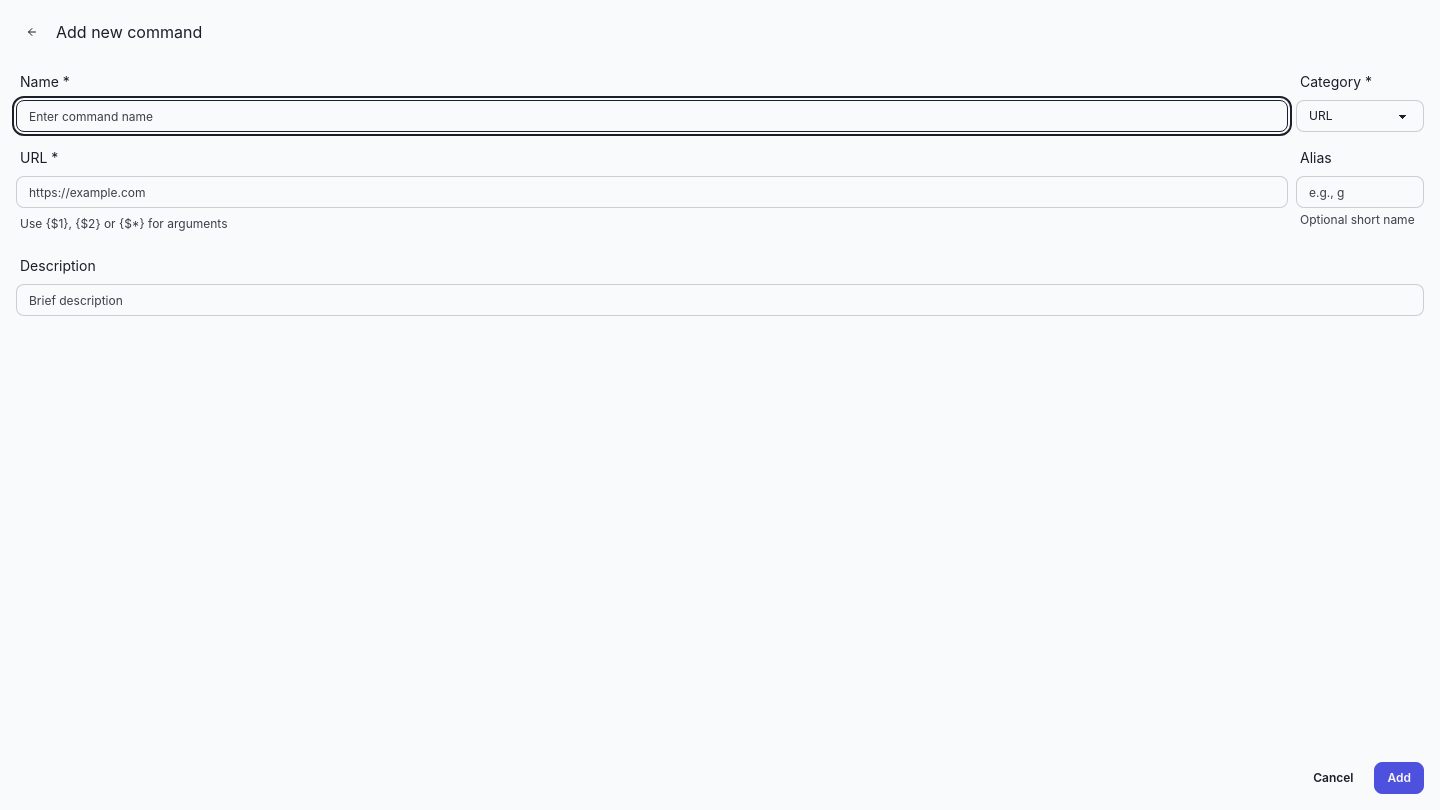
Test: CommandForm validation copy › keeps the alias optional unless the command takes arguments
The image size is (1440, 810).
Expected: the field labelled "Alias" is enabled, left=1296, top=176, right=1424, bottom=208
Expected: the text "Optional short name" is shown, left=1296, top=208, right=1424, bottom=232
Click the field labelled "URL *" at coordinates (652, 192), box left=16, top=176, right=1288, bottom=208
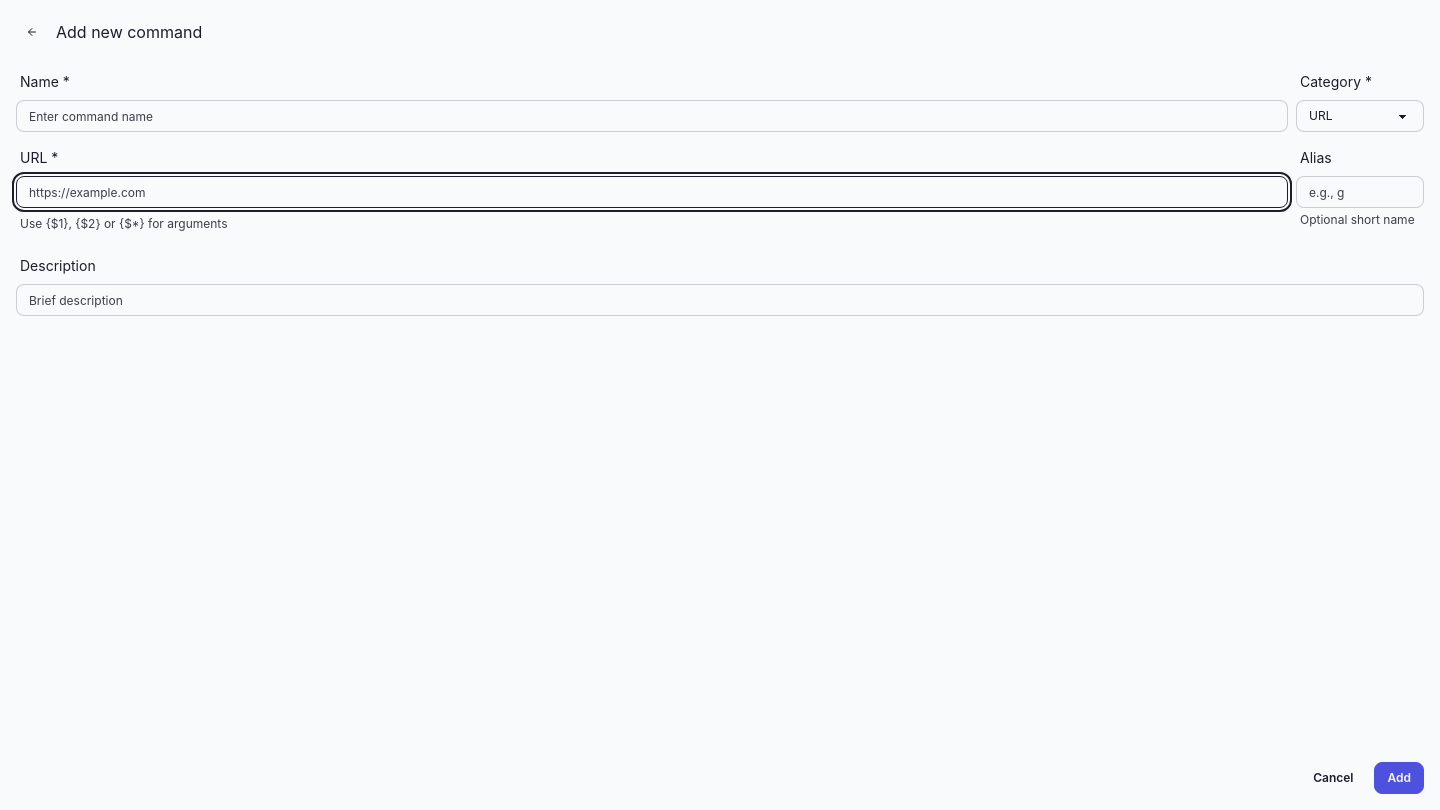
Type keys "https://a.dev/?q={$1}"
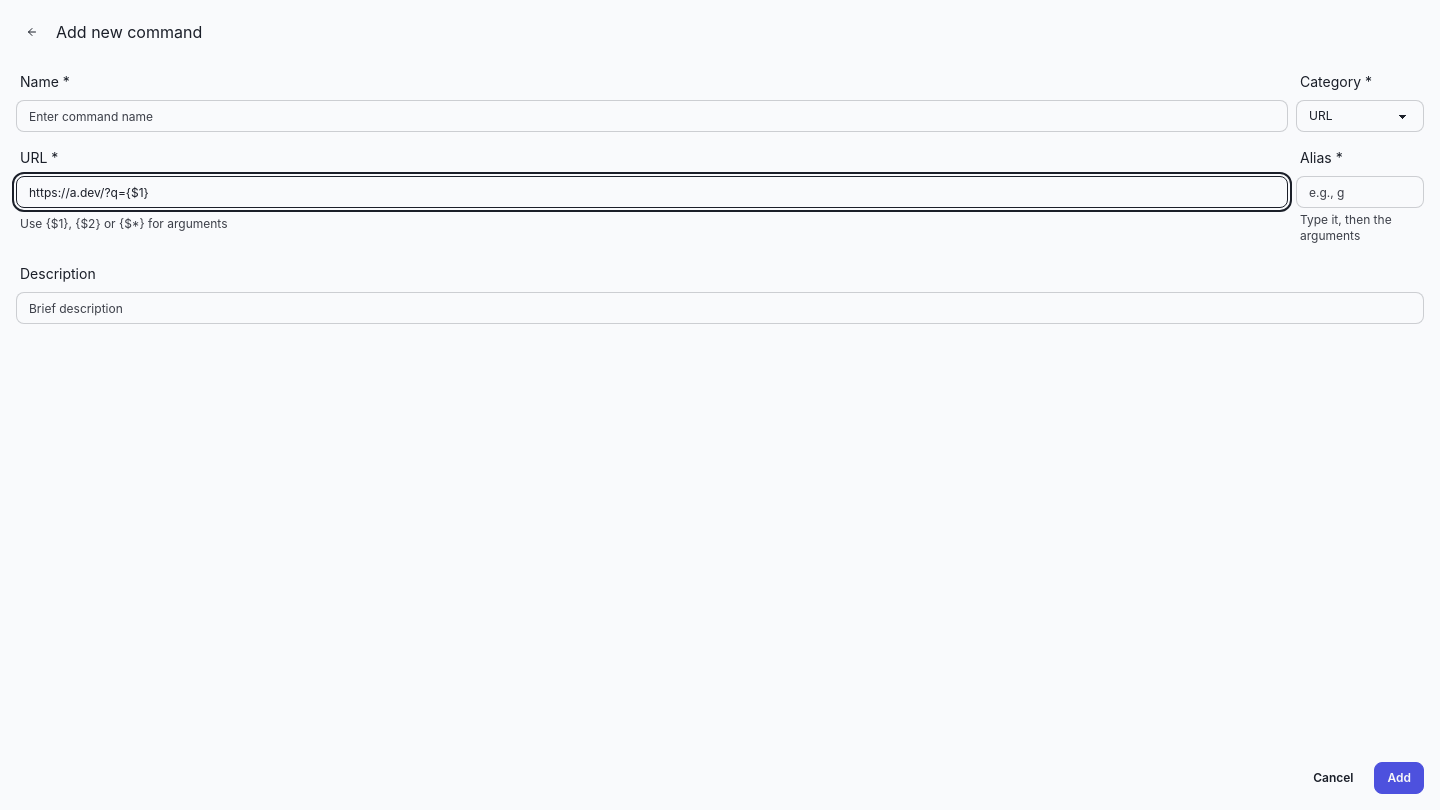
Expected: the field labelled "Alias *" is shown, left=1296, top=176, right=1424, bottom=208
Type "A" into the field labelled "Name *" at coordinates (652, 116), box left=16, top=100, right=1288, bottom=132
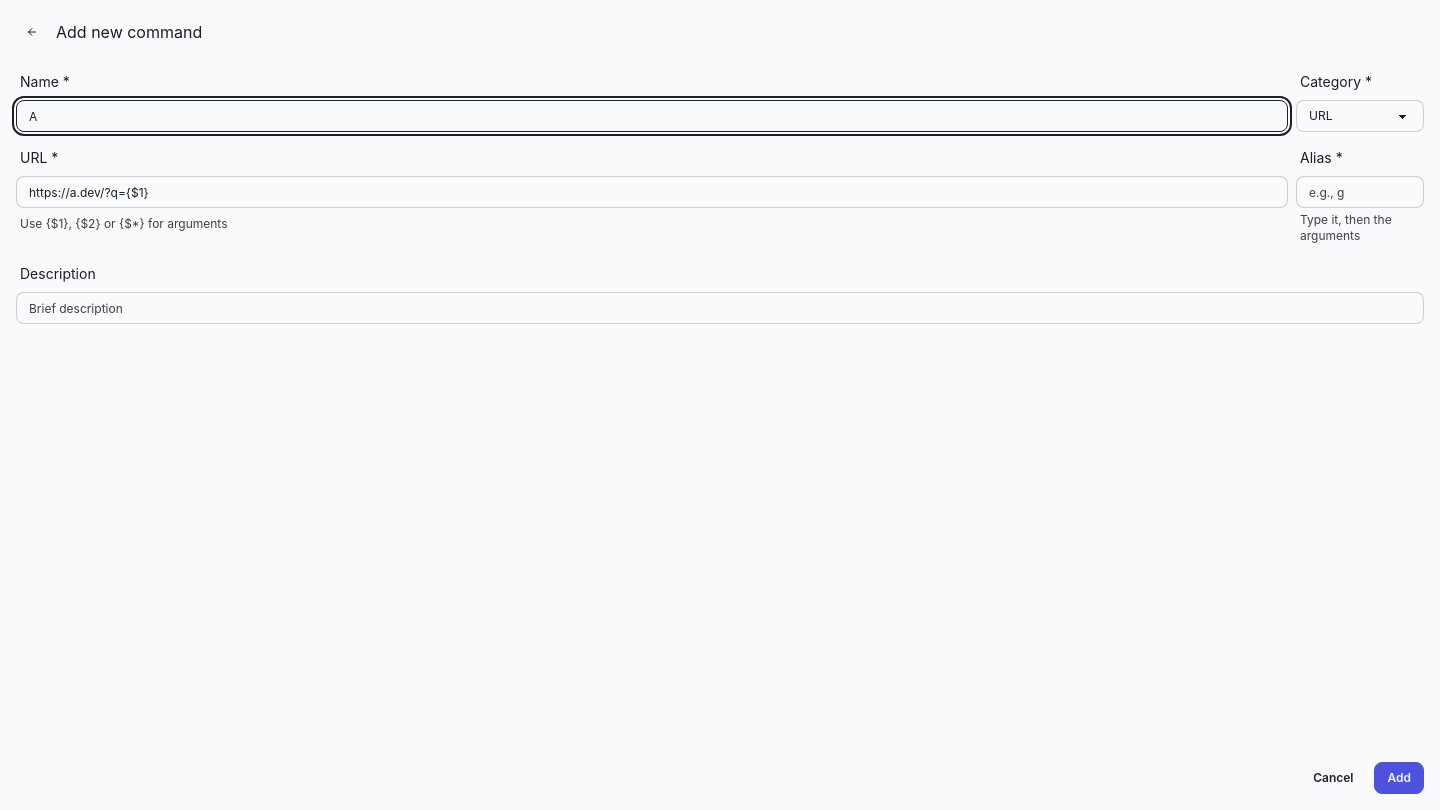
Click the button "Add" at coordinates (1399, 778), box left=1374, top=762, right=1424, bottom=794
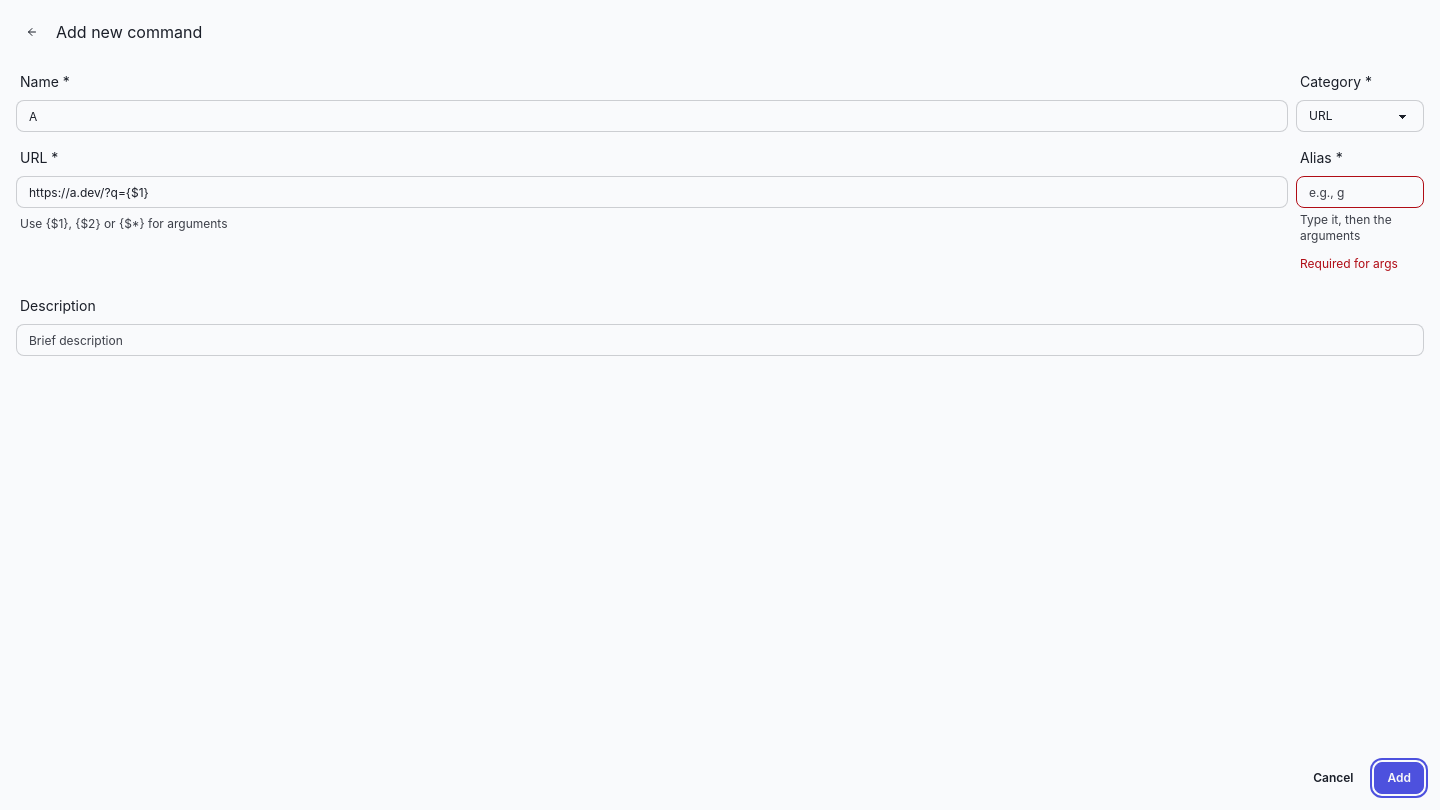
Expected: the text "Required for args" is shown, left=1300, top=256, right=1398, bottom=271
